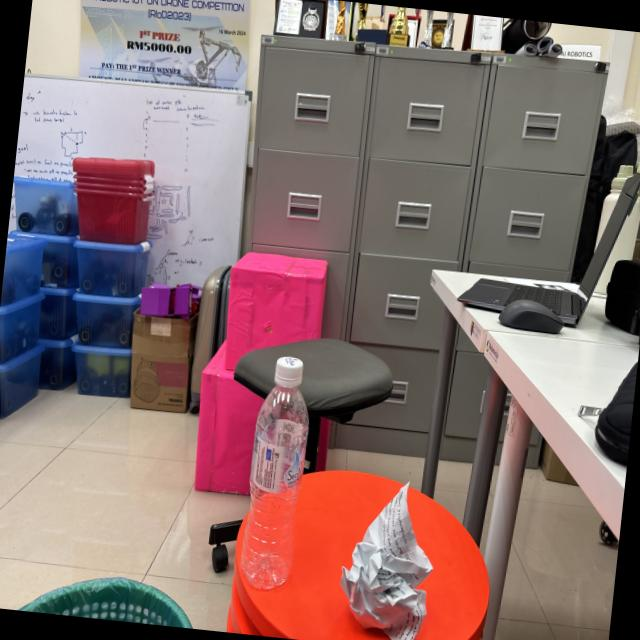crumpled_paper: (327, 470, 452, 640)
plastic_bottle: (231, 345, 322, 598)
